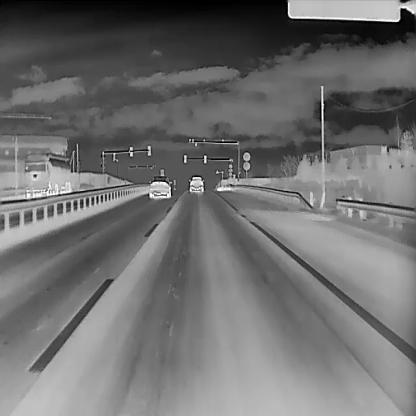car: (148, 173, 172, 196), (188, 174, 204, 192)
truck: (22, 150, 72, 198)
